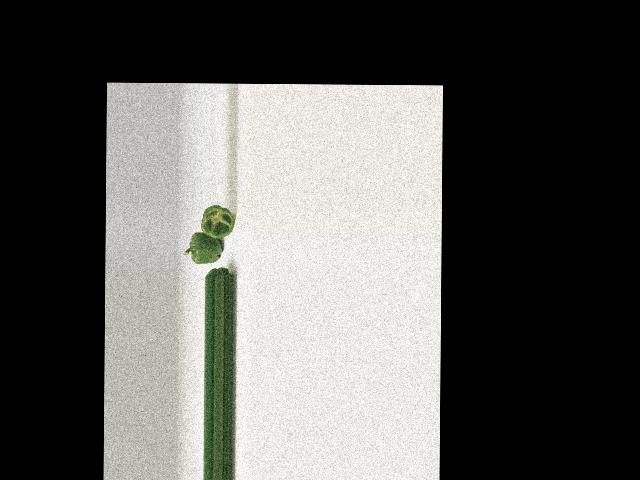bell_pepper: (197, 203, 236, 240)
